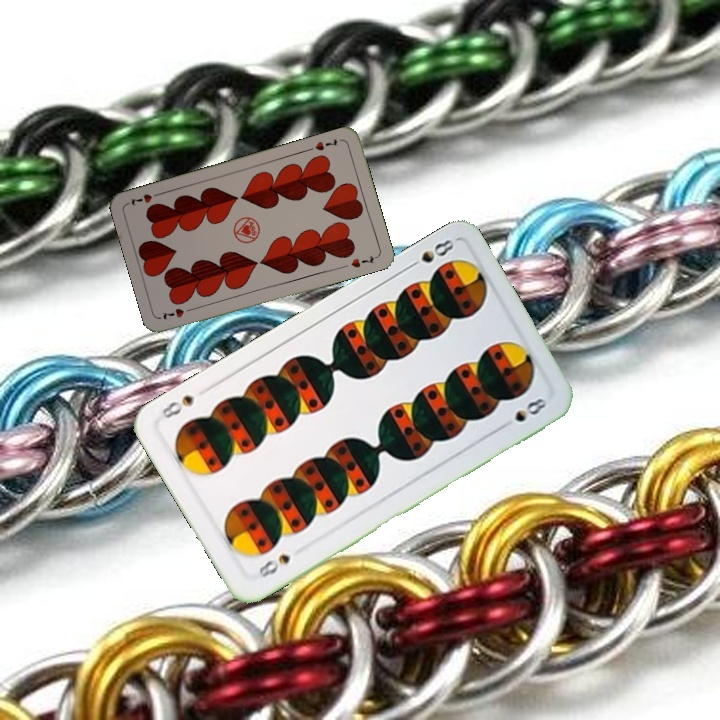H7: (158, 303, 197, 322), (311, 135, 340, 153)
S8: (402, 235, 457, 272), (254, 550, 293, 581)
